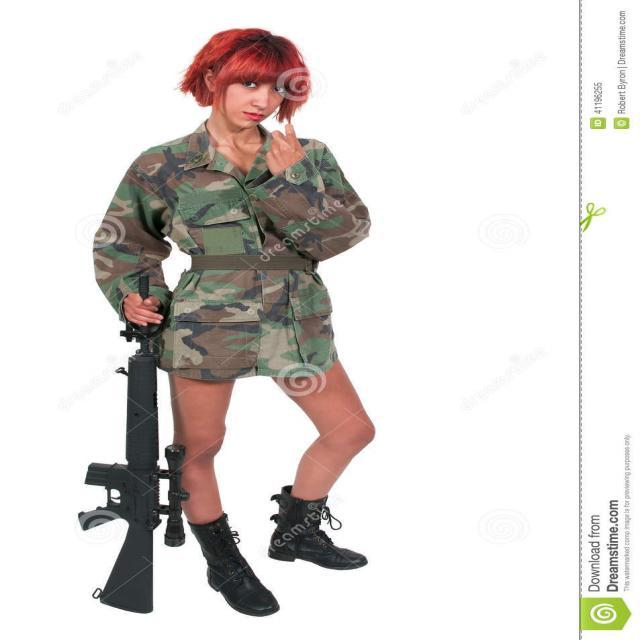weapon: (63, 271, 193, 622)
